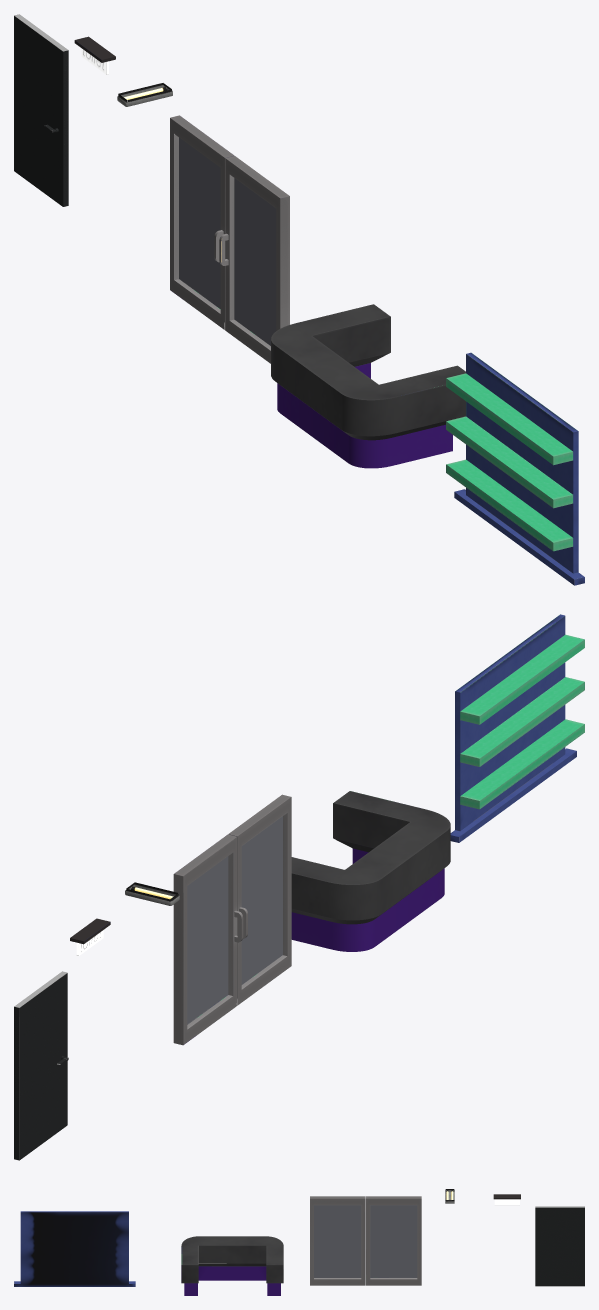
The model's file is Envairoment2.fbx.
The picture shows the model from 3 angles, top to bottom: view 1: azimuth 30°, elevation 25°; view 2: azimuth 150°, elevation 25°; view 3: azimuth 270°, elevation 25°; orthographic projection. The views are drawn at different scales.
Visible parts, largest first — view 1: Cube.022, Cube.009, Cube.200, Cube.007, Cube.008; view 2: Cube.022, Cube.200, Cube.009, Cube.007, Cube.008; view 3: Cube.022, Cube.200, Cube.009, Cube.007, Cube.008.
Part boxes in pixels (<box>): Cube.022: <box>170,115,289,363</box>; Cube.009: <box>271,304,465,468</box>; Cube.200: <box>446,352,584,585</box>; Cube.007: <box>14,14,68,206</box>; Cube.008: <box>74,36,115,74</box>; Cube.022: <box>173,794,291,1045</box>; Cube.200: <box>450,614,584,842</box>; Cube.009: <box>291,791,450,951</box>; Cube.007: <box>14,971,67,1160</box>; Cube.008: <box>70,918,110,955</box>; Cube.022: <box>310,1196,421,1285</box>; Cube.200: <box>14,1211,135,1286</box>; Cube.009: <box>181,1236,283,1295</box>; Cube.007: <box>535,1206,584,1286</box>; Cube.008: <box>493,1194,520,1205</box>.
Bounding box in the file's own units: 218 × 320 × 1834.
